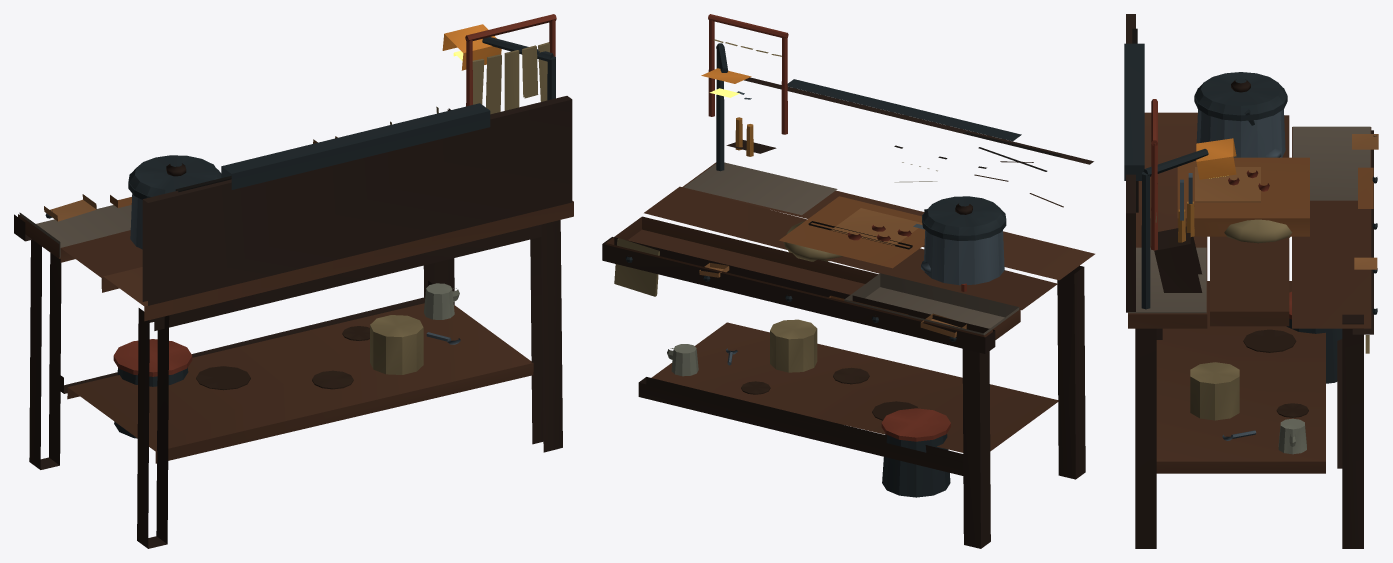
The model's file is kitchen_bench.glb.
3 renders of one model, left to right at view 1: azimuth 30°, elevation 25°; view 2: azimuth 150°, elevation 25°; view 3: azimuth 270°, elevation 25°, orthographic. The views are drawn at different scales.
Parts seen in each view (by area): view 1: KitchenBench_Mesh; view 2: KitchenBench_Mesh; view 3: KitchenBench_Mesh.
Boxes of the visible parts, x1,y1,x2,y2 form: KitchenBench_Mesh: [14, 14, 573, 548]; KitchenBench_Mesh: [602, 14, 1094, 548]; KitchenBench_Mesh: [1124, 14, 1378, 548].
Size of the model in its own units: 1.68 by 1.57 by 0.883.
